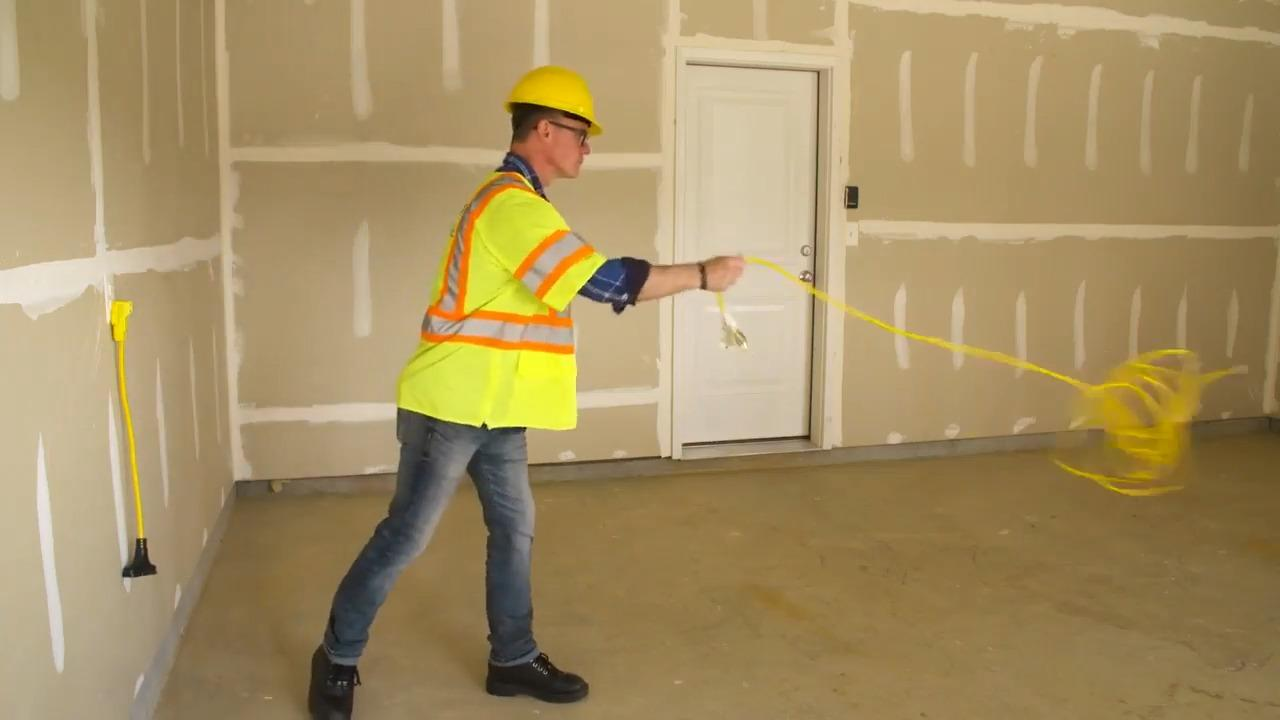Helmet: (497, 68, 609, 130)
Person: (359, 51, 643, 717)
Safety Boot: (484, 652, 589, 704), (307, 642, 360, 718)
Safety Vest: (395, 169, 607, 432)
bare-arms: (693, 254, 751, 299)
